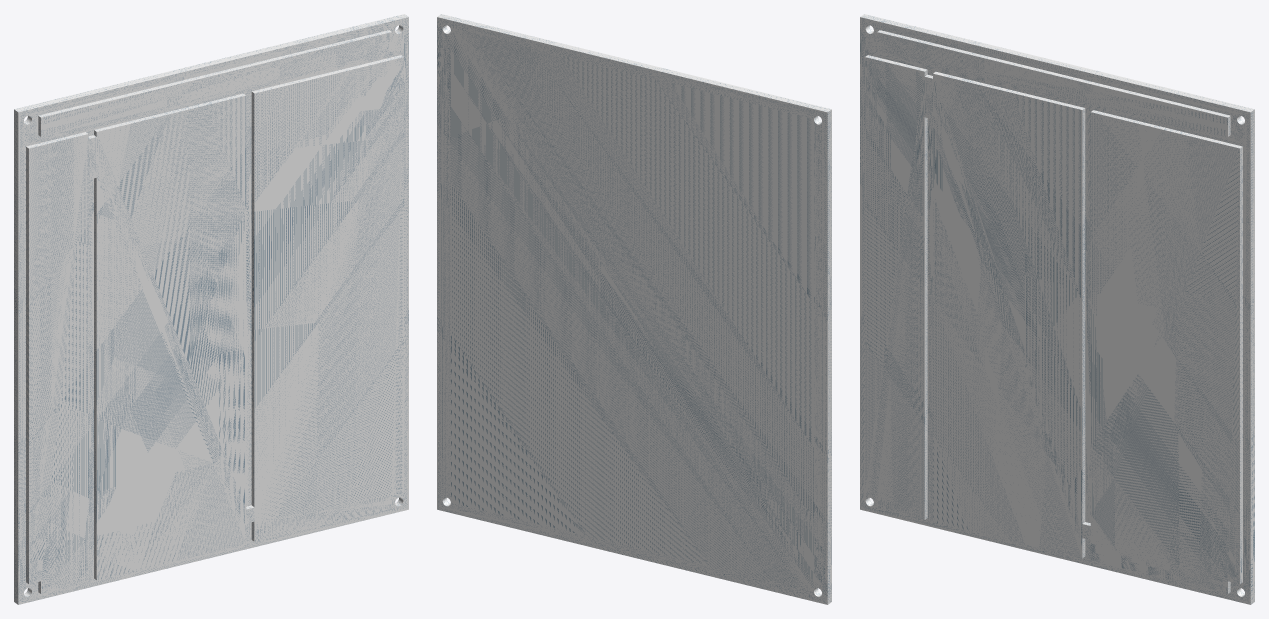
Rendered from 4kVVillardsCaseLid.obj.
The picture shows the model from 3 angles, left to right: view 1: azimuth 30°, elevation 25°; view 2: azimuth 150°, elevation 25°; view 3: azimuth 330°, elevation 25°; orthographic projection.
Parts seen in each view (by area): view 1: Mesh1 Model; view 2: Mesh1 Model; view 3: Mesh1 Model.
Part boxes in pixels (bbox=[...]): Mesh1 Model: bbox=[14, 14, 408, 604]; Mesh1 Model: bbox=[437, 14, 831, 604]; Mesh1 Model: bbox=[860, 14, 1254, 604].
Bounding box in the file's own units: 161 × 194 × 5.
